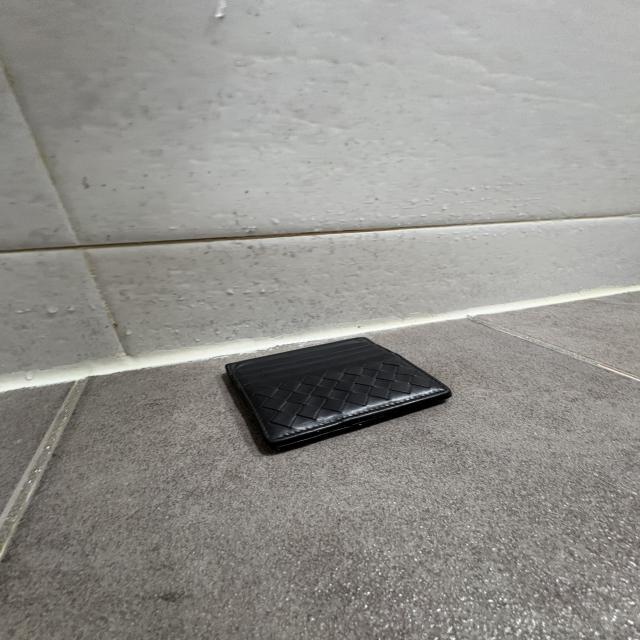wallet: (221, 335, 451, 457)
